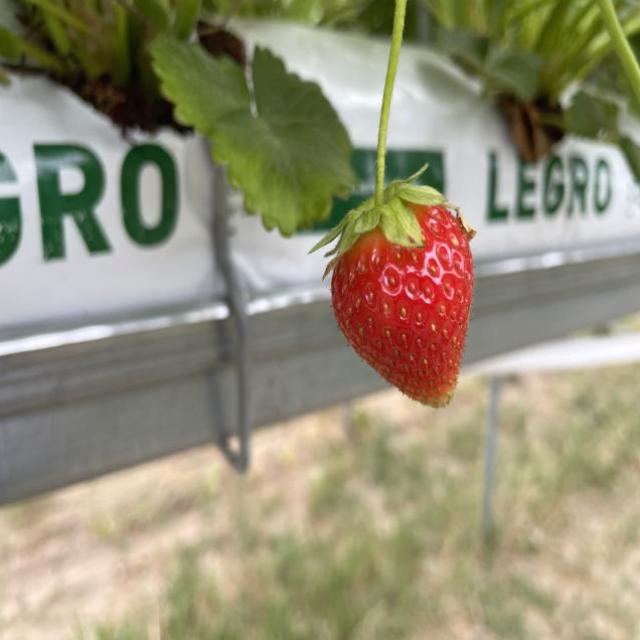stem: (311, 0, 449, 273)
strawberryR: (331, 206, 473, 406)
